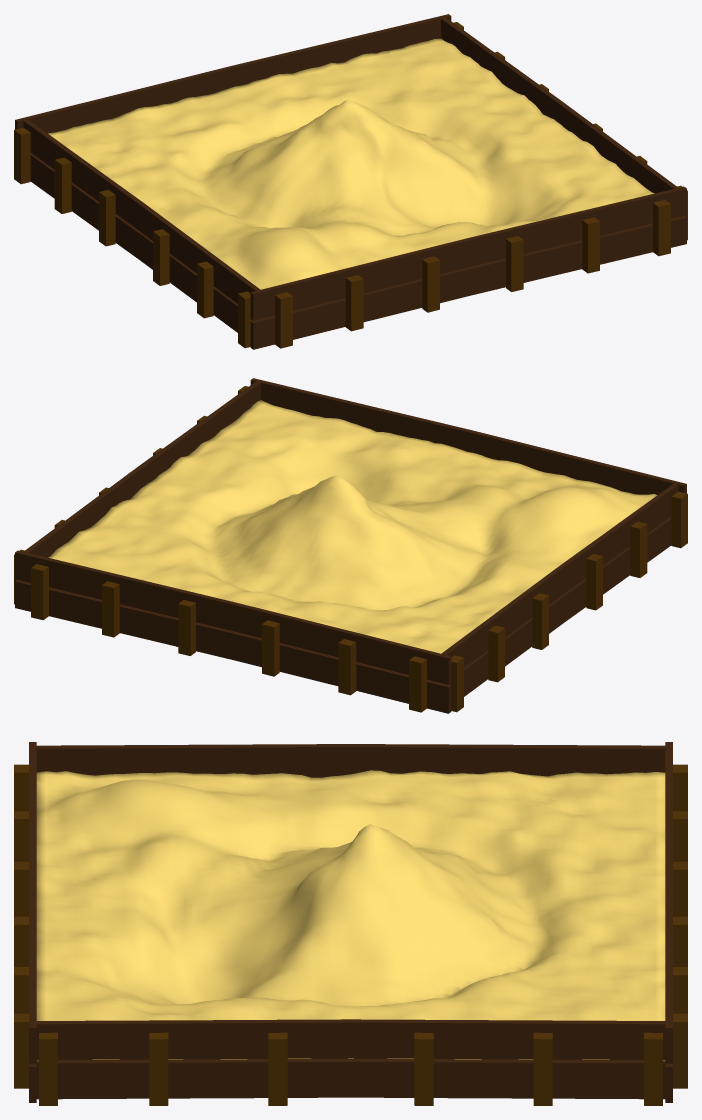
Rendered from Sandkasten.fbx.
3 renders of one model, top to bottom at view 1: azimuth 30°, elevation 25°; view 2: azimuth 150°, elevation 25°; view 3: azimuth 270°, elevation 25°, orthographic. The views are drawn at different scales.
Parts seen in each view (by area): view 1: Sandkasten; view 2: Sandkasten; view 3: Sandkasten.
Part boxes in pixels (x1=…): Sandkasten: x1=14, y1=14, x2=687, y2=349; Sandkasten: x1=14, y1=378, x2=687, y2=713; Sandkasten: x1=14, y1=742, x2=687, y2=1105.
Size of the model in its own units: 319 by 70.84 by 311.
Materials: 1 (1 with a texture image).
